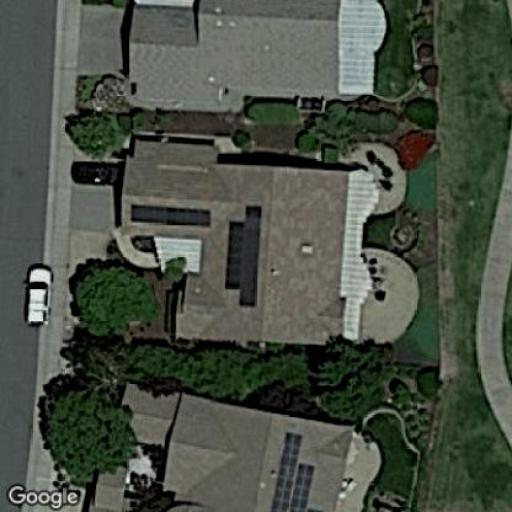solar-panel: (221, 201, 264, 311), (268, 430, 319, 510), (128, 201, 214, 230)
